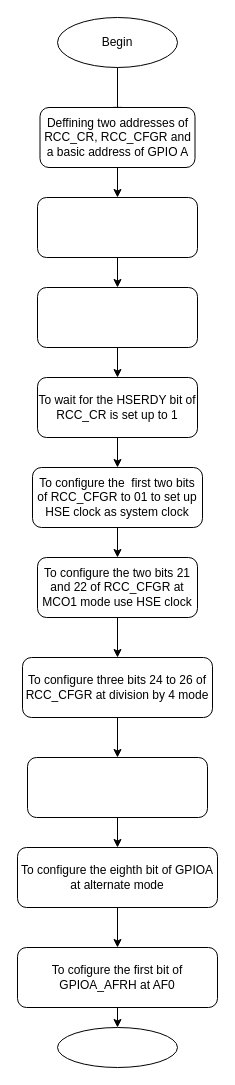
Some shapes in this 235 by 1085 pixel diagram are drawn without their labels. The shapes that lost their labels are listed below. From the top down, each one's box as (x1, y1, x2, y2) in pixels, then its label:
(36, 196, 198, 258): Declaring two points to point RCC_CR and CFGR
(36, 286, 198, 348): To enable the HSEON bit of RCC-CR
(26, 756, 208, 818): To enable clock pulse of GPIO A
(56, 1026, 178, 1068): End
